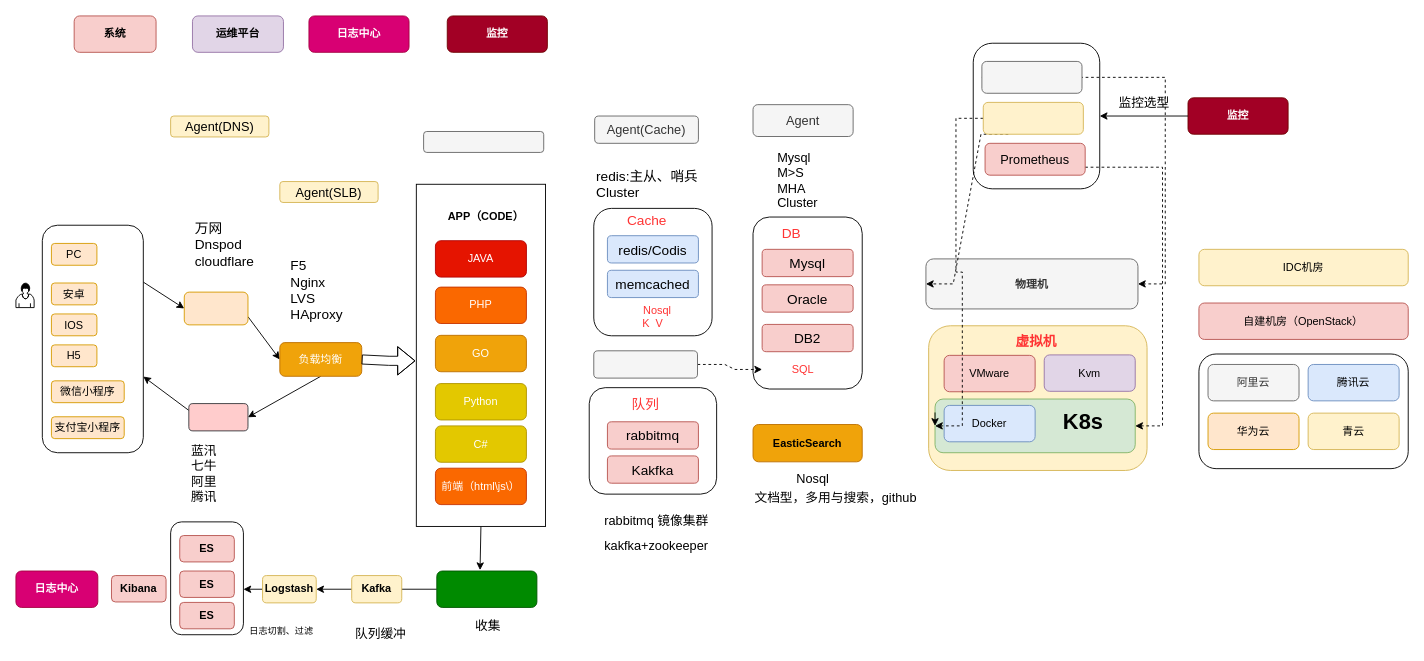
Image size: 1424x661. Some labels were removed from this diagram. Each missing label, with the box of its shape:
Agent(DB): (593, 350, 698, 378)
Agent(filebeat): (436, 570, 537, 607)
Agent（OS/APP）: (423, 131, 544, 152)
CDN: (188, 403, 248, 431)
DNS: (183, 291, 248, 325)
Open-falcon: (982, 101, 1083, 134)
Zabbix: (981, 61, 1082, 93)
